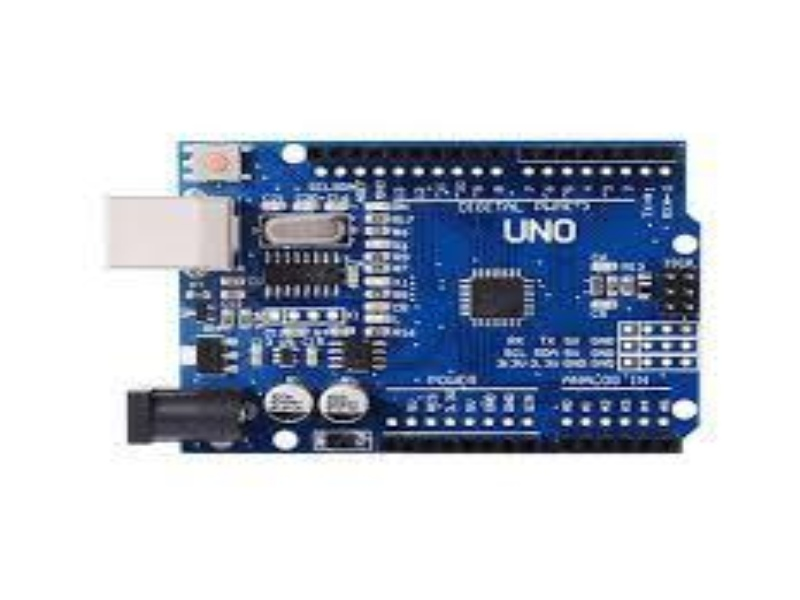uno: (99, 112, 723, 459)
